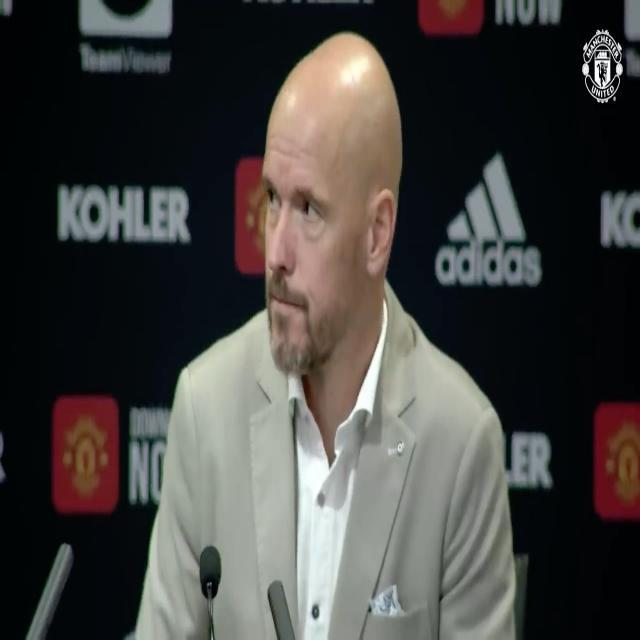Adidas: (434, 150, 542, 288)
Kohler: (58, 183, 191, 245)
TeamViewer: (80, 0, 172, 72)
